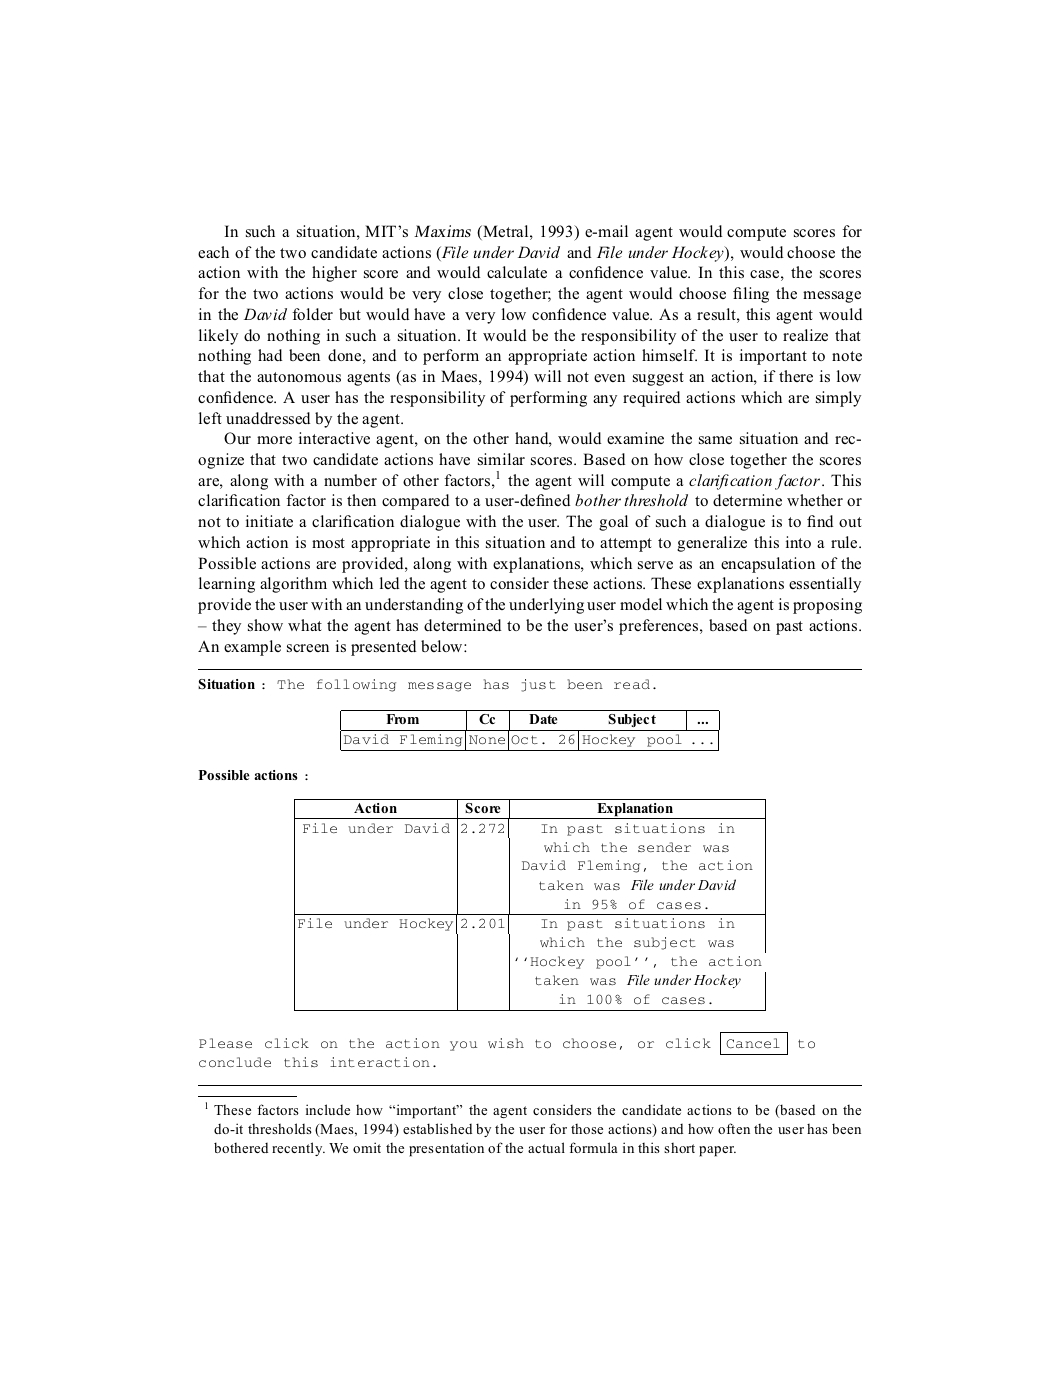Table: (294, 798, 765, 1011), (340, 709, 719, 751)
